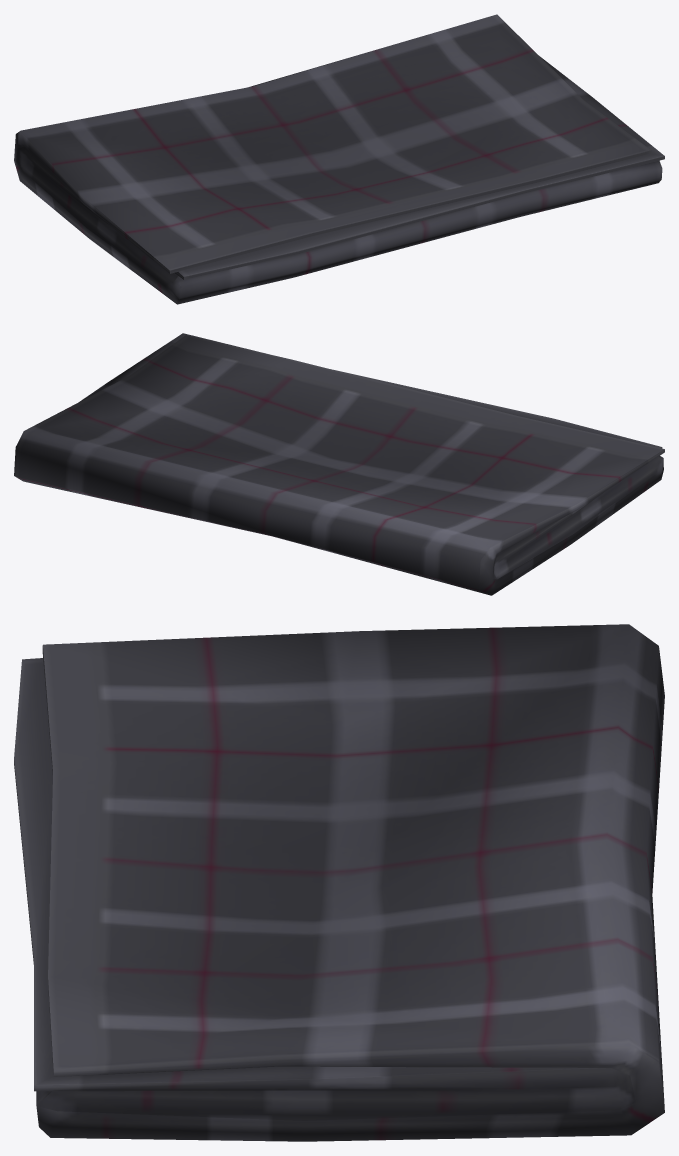
Rendered from set_longtowel_04.fbx.
3 views of the same model, one above another, from view 1: azimuth 30°, elevation 25°; view 2: azimuth 150°, elevation 25°; view 3: azimuth 270°, elevation 25° (orthographic). The views are drawn at different scales.
Visible parts, largest first — view 1: set_longtowel_04; view 2: set_longtowel_04; view 3: set_longtowel_04.
Part boxes in pixels (box(x1,y1,x2,y2)): set_longtowel_04: box(14, 14, 664, 304); set_longtowel_04: box(14, 333, 664, 595); set_longtowel_04: box(14, 624, 664, 1141).
Bounding box in the file's own units: 31.63 × 3.21 × 19.98.
